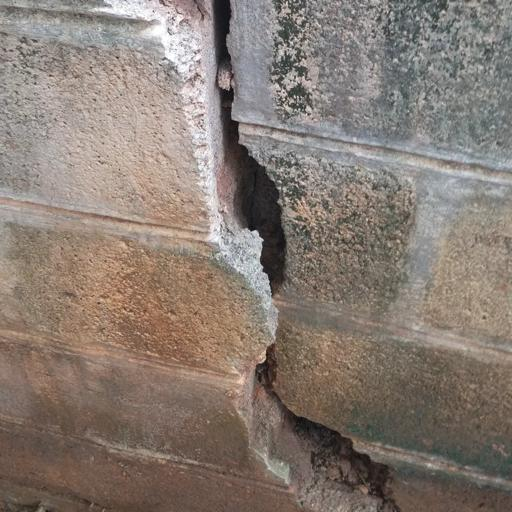major_crack: (154, 0, 411, 512)
